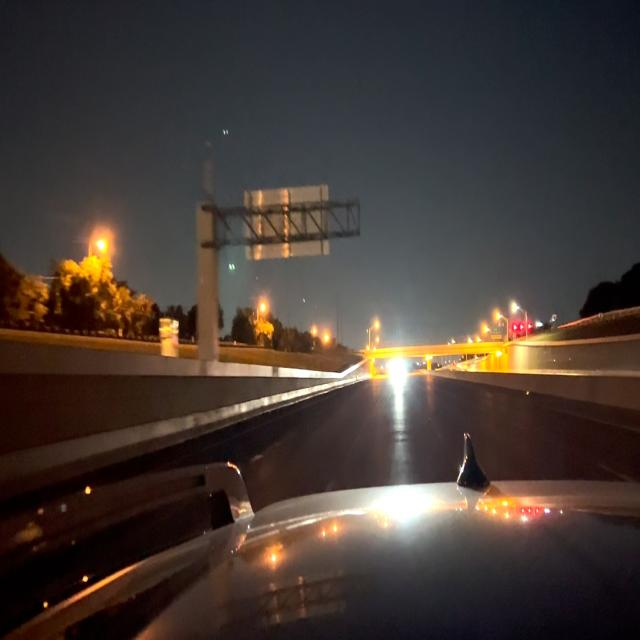back-of-sign: (245, 183, 330, 258)
